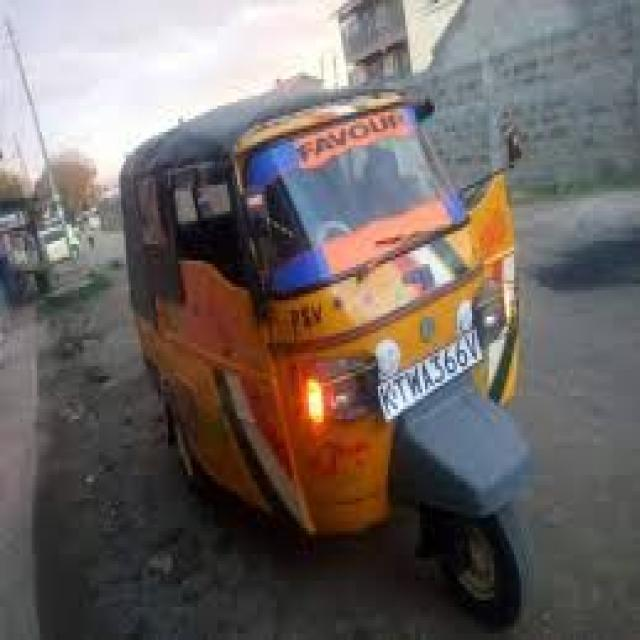tuktuk: (74, 43, 592, 640)
